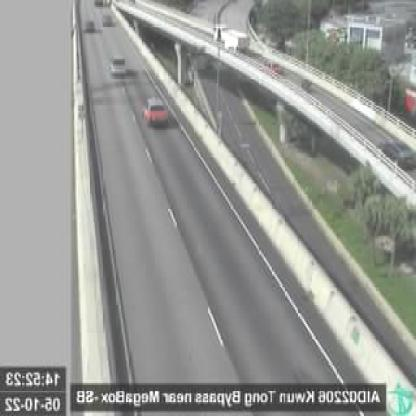Car: (143, 94, 169, 126), (110, 56, 125, 76), (83, 21, 96, 34), (104, 14, 117, 26)
